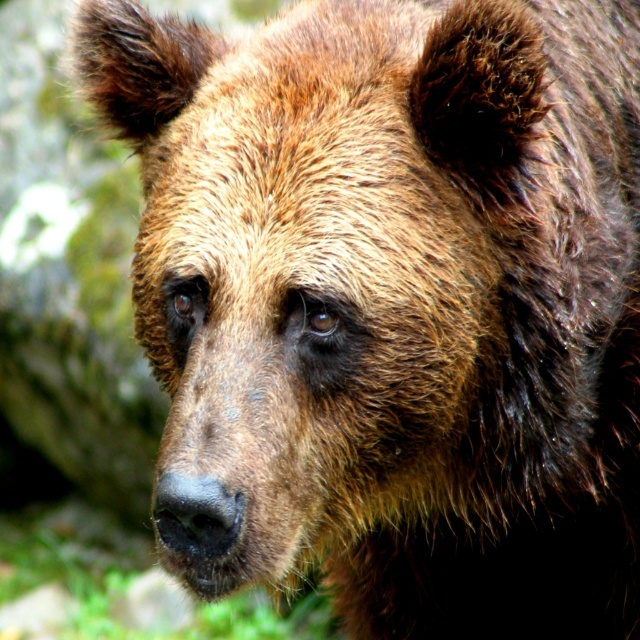Brown bear: (44, 0, 640, 640)
